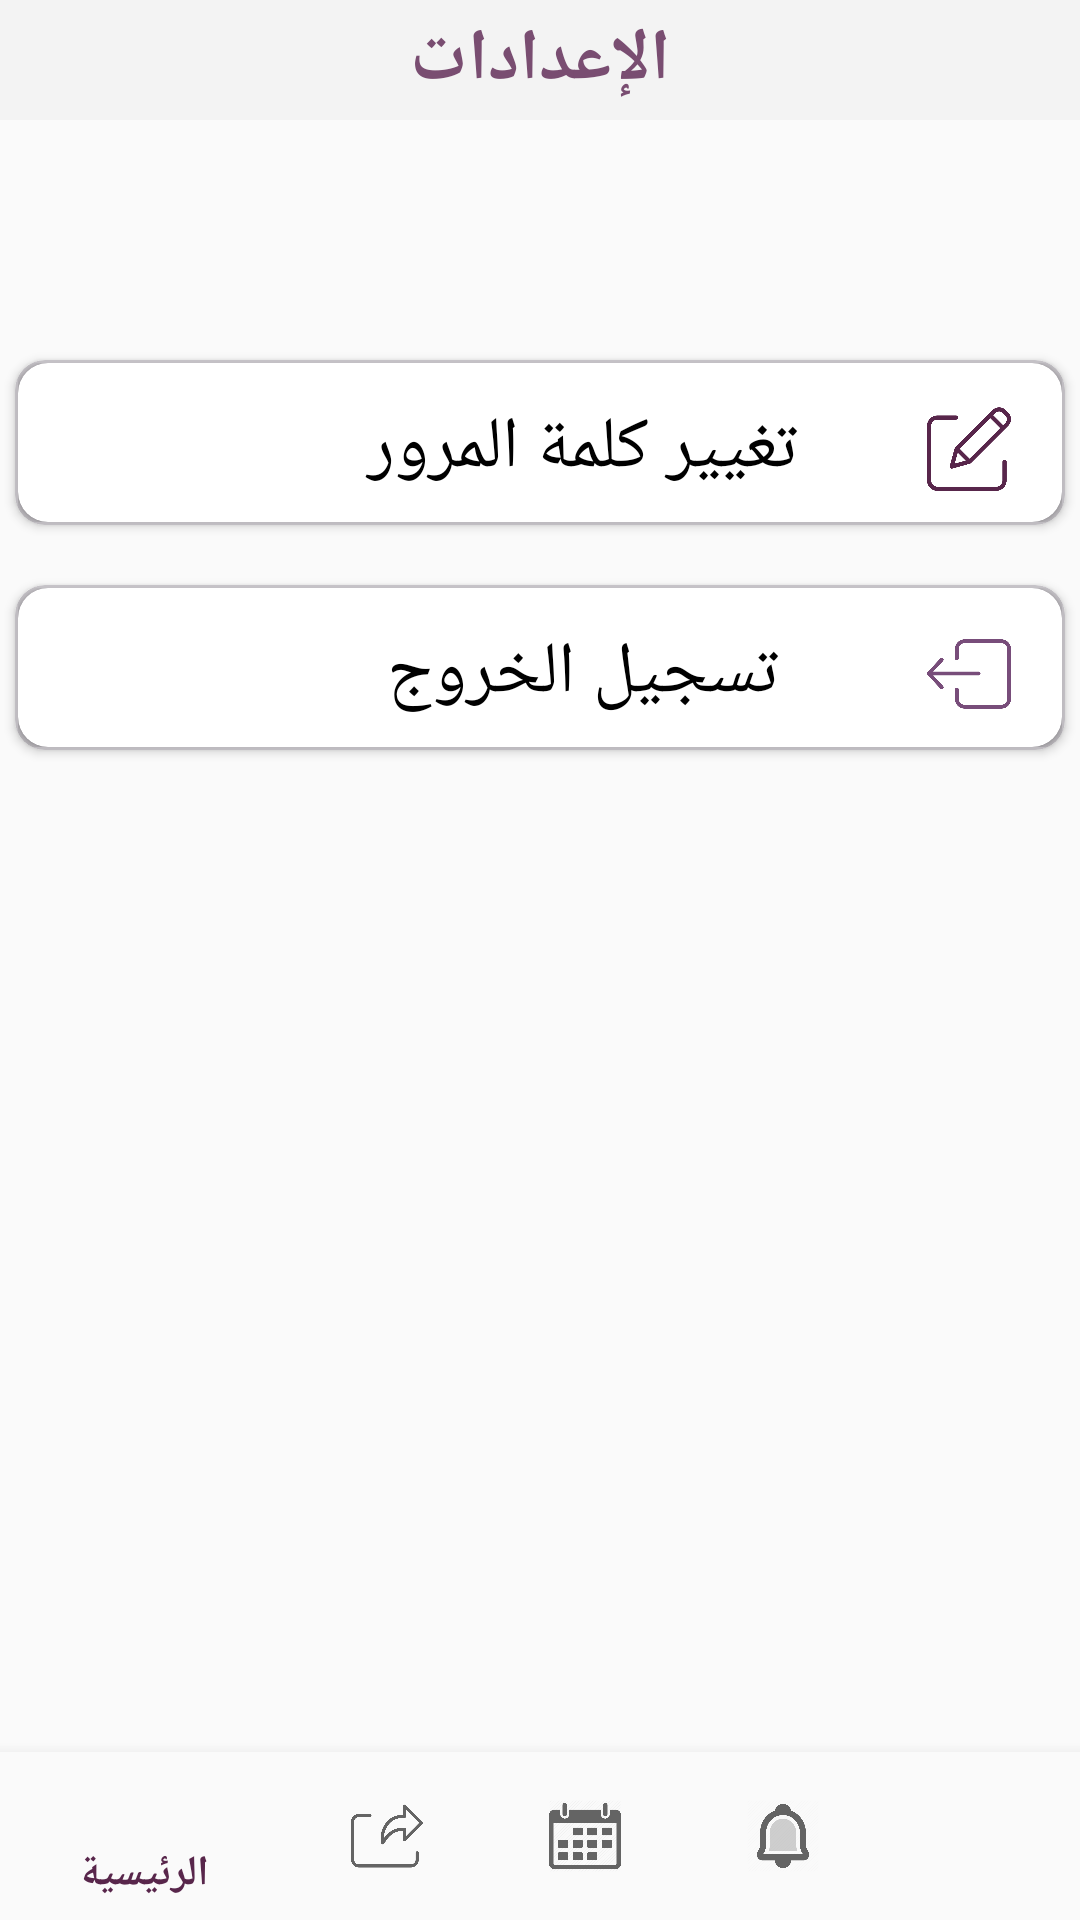

Locate icon controls on the screen. Image size 1080w x 1920h, boxes as (x1, y1, x2, y2).
edit: (927, 407, 1011, 491)
signout: (927, 639, 1011, 709)
